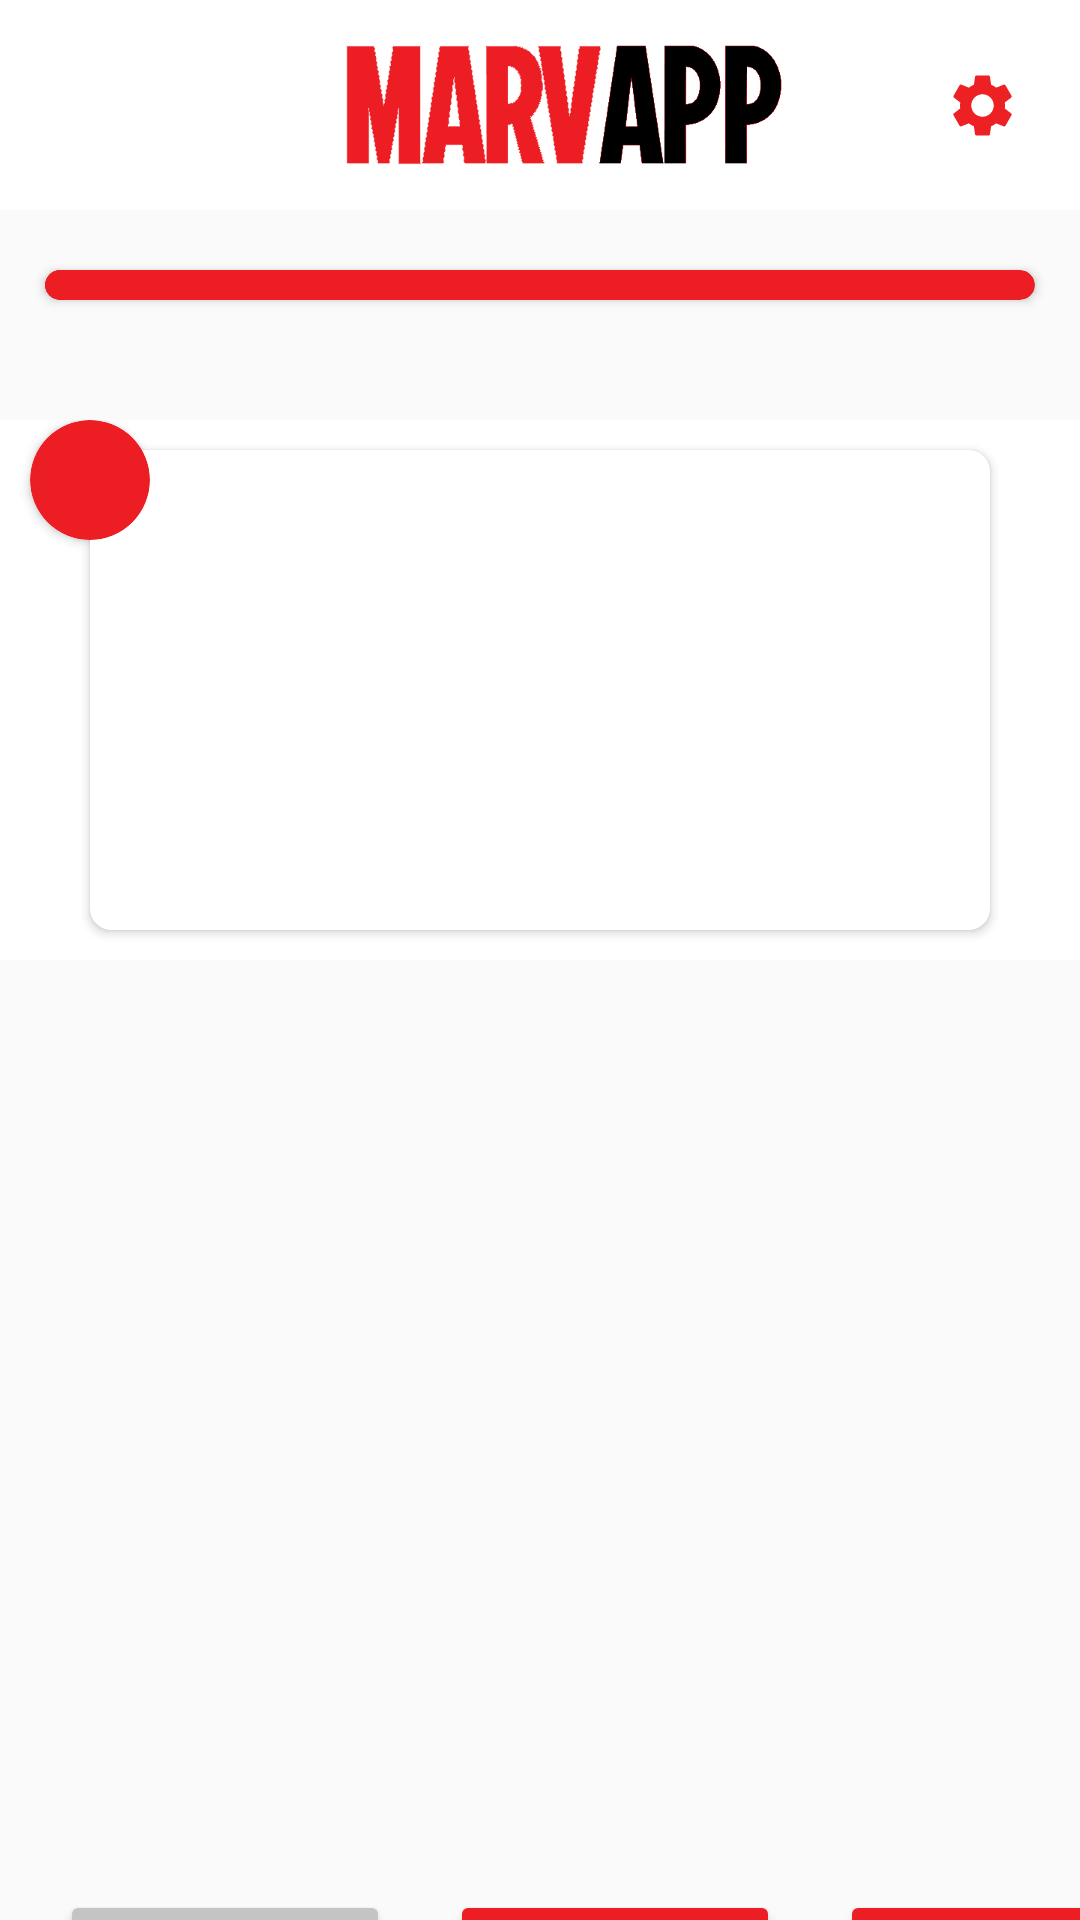

Where to tap for icons on this 1080px×1920px app screen, as [x,y]:
setting: [982,105]
